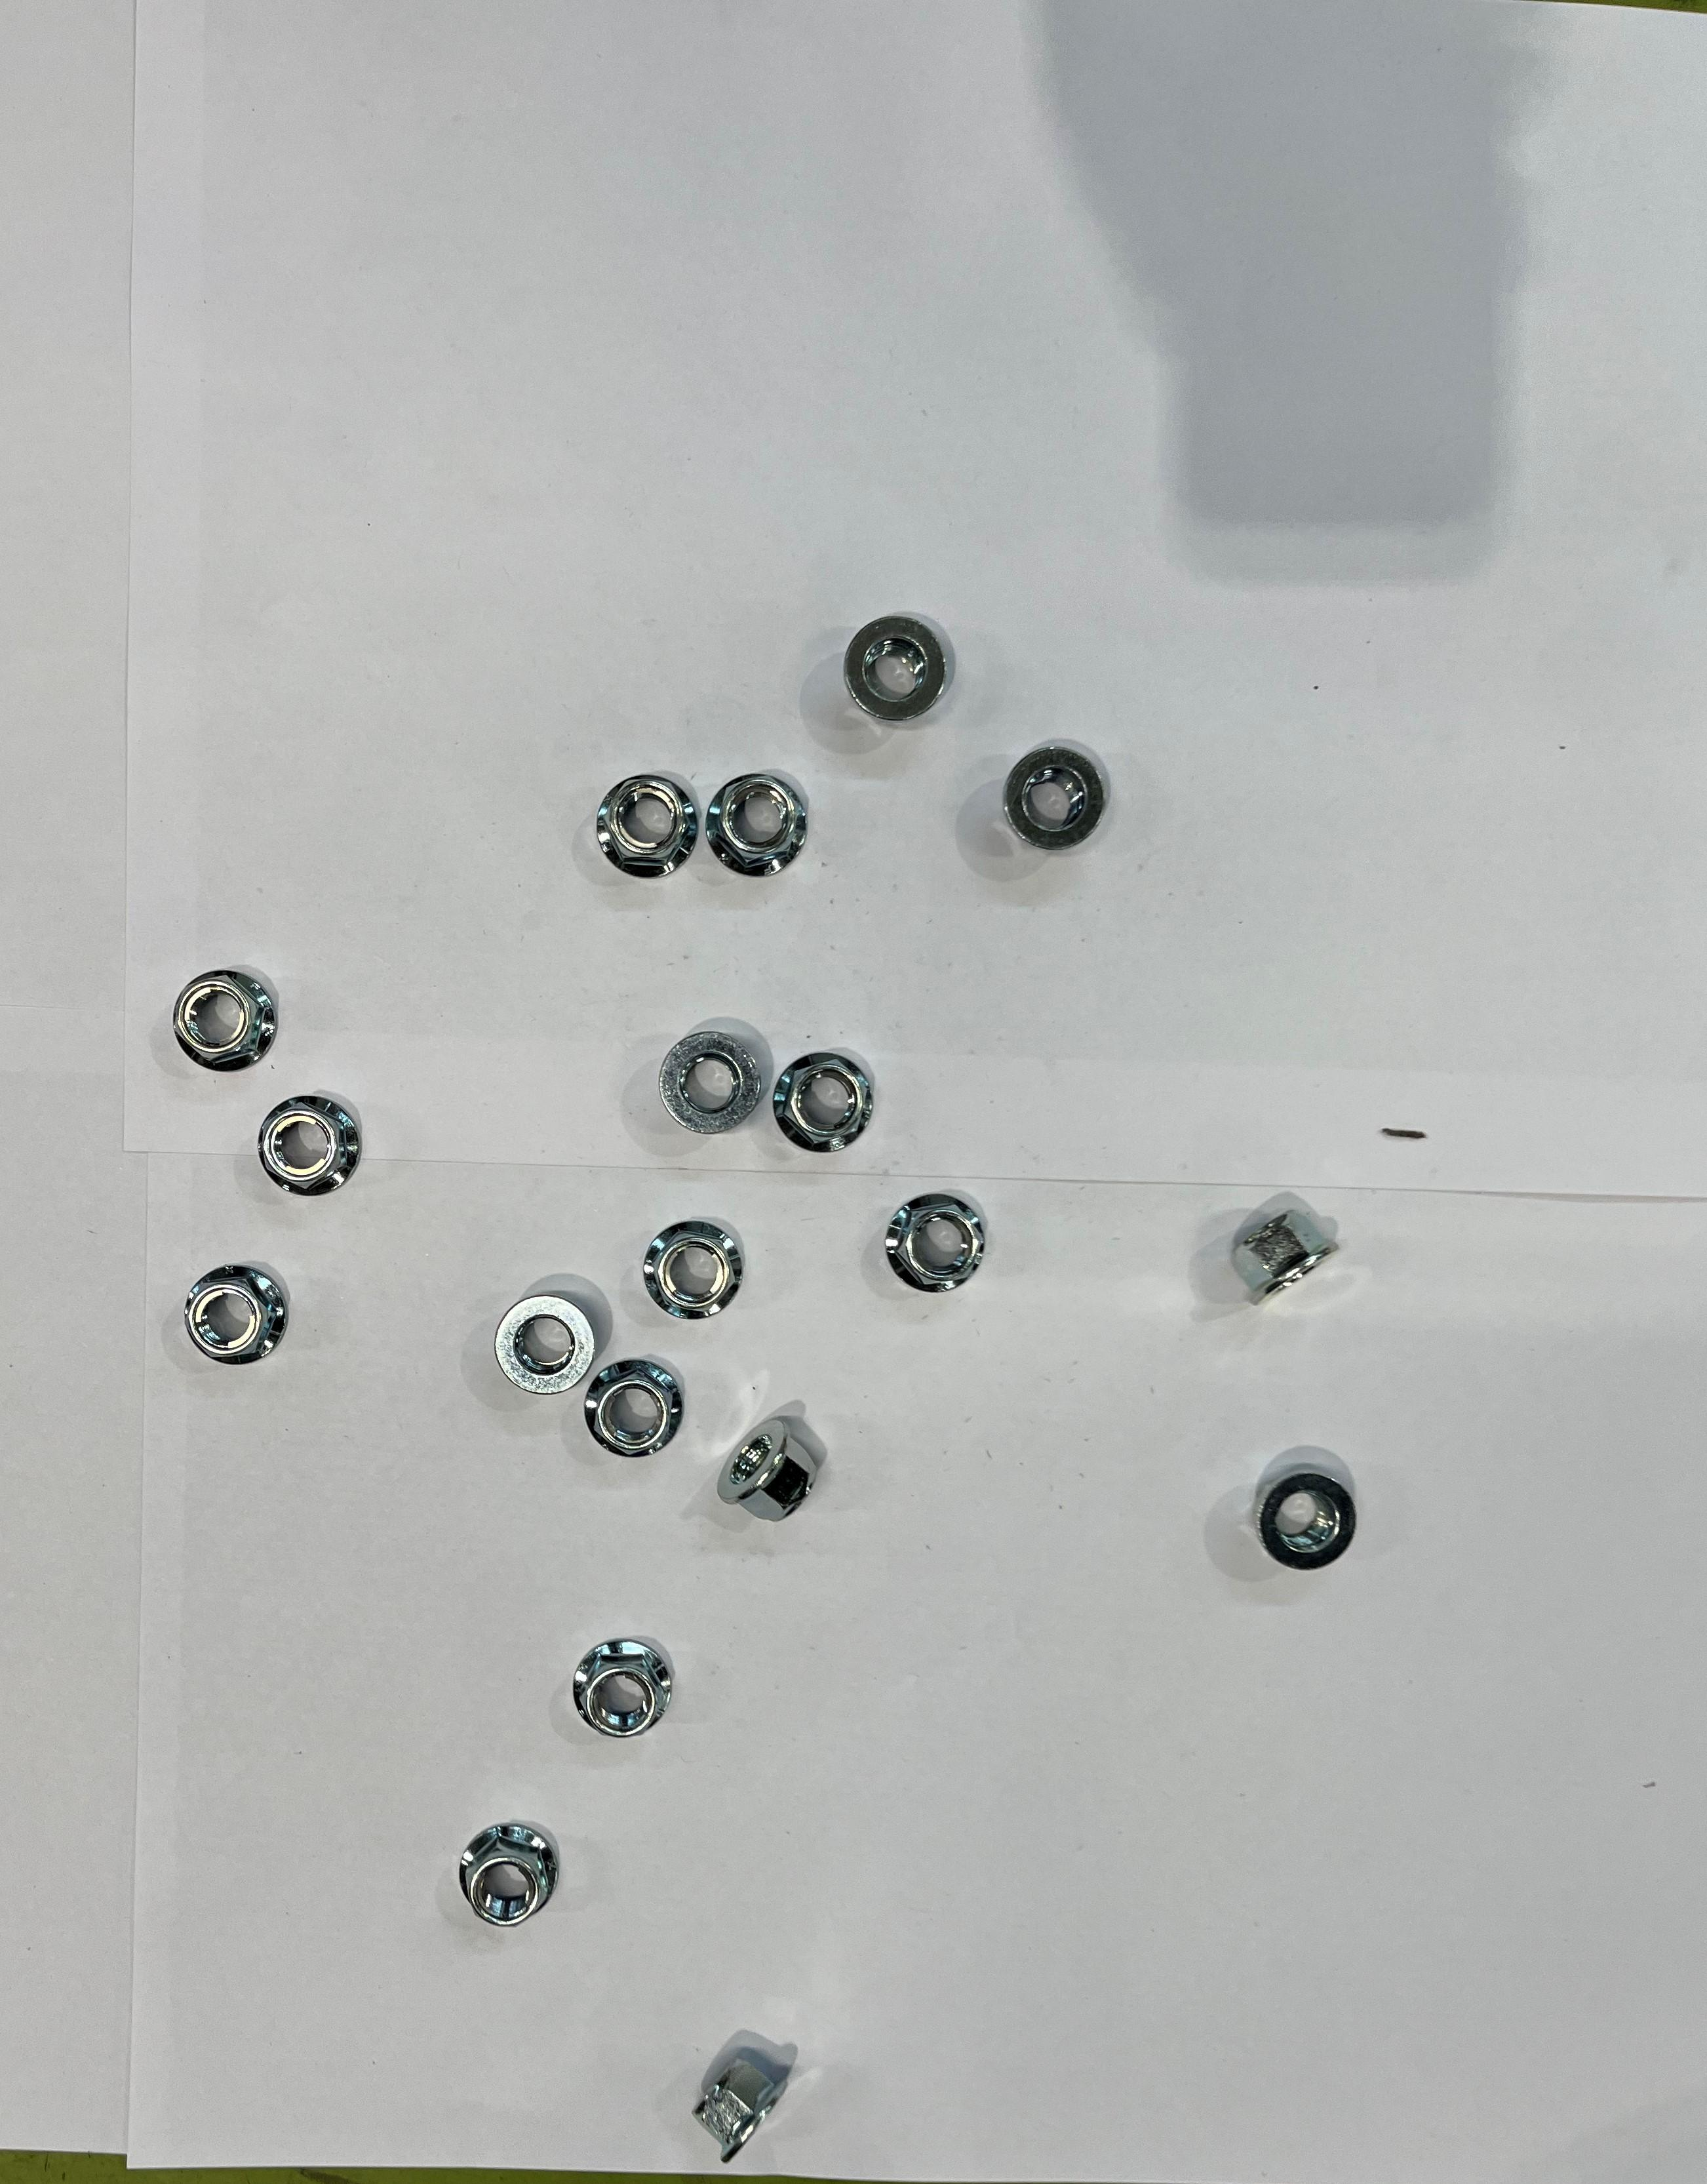Type B: (840, 608, 955, 720), (1003, 736, 1115, 851), (592, 773, 702, 881), (1251, 1463, 1358, 1574), (1232, 1198, 1338, 1310), (659, 1023, 762, 1138), (253, 1099, 365, 1200), (718, 1418, 822, 1525), (707, 769, 810, 878), (167, 971, 278, 1071), (456, 1824, 560, 1929), (179, 1267, 289, 1365), (571, 1642, 675, 1743), (886, 1186, 984, 1294), (645, 1216, 744, 1321), (496, 1298, 597, 1399), (775, 1051, 874, 1154), (691, 2060, 789, 2164), (587, 1356, 684, 1459)
